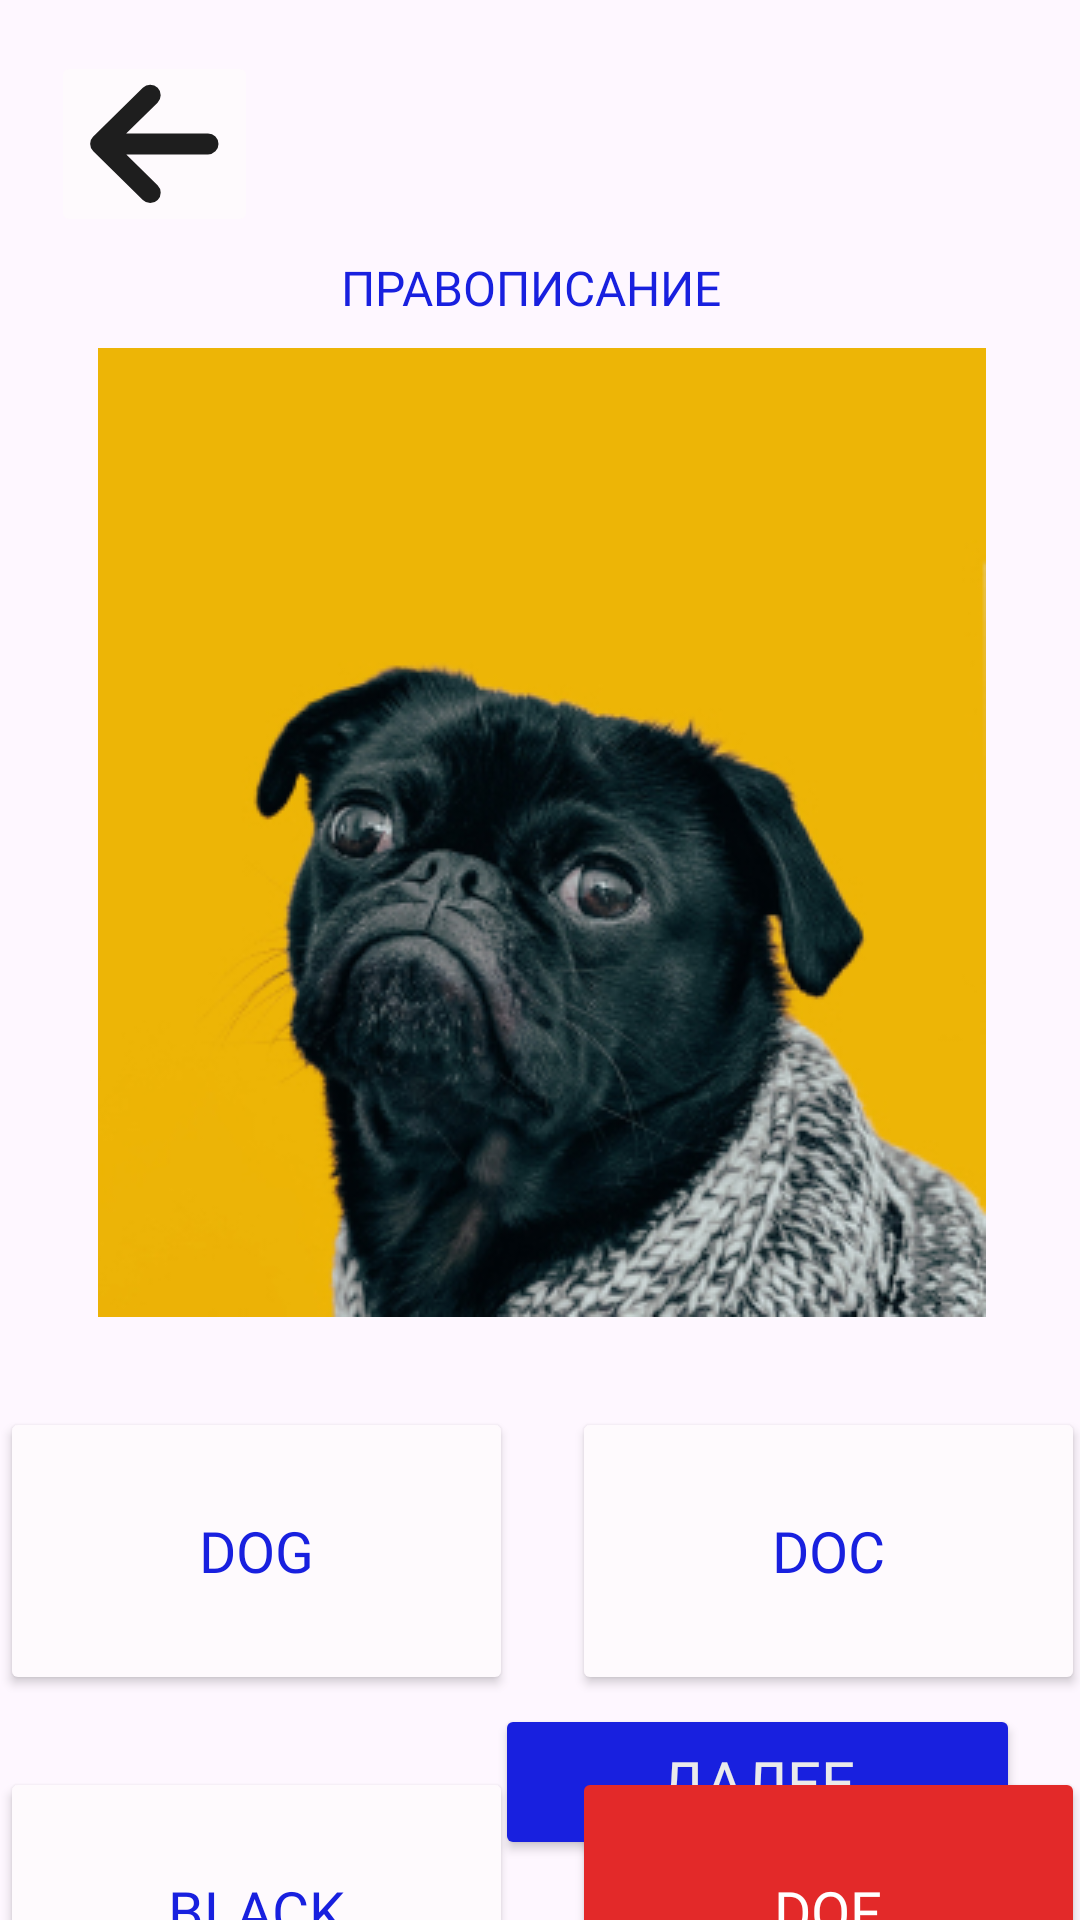

Named icons in this screenshot (1080px x 1920px) and their centers, (x=x, y=y):
ion arrow back: (x=154, y=143)
